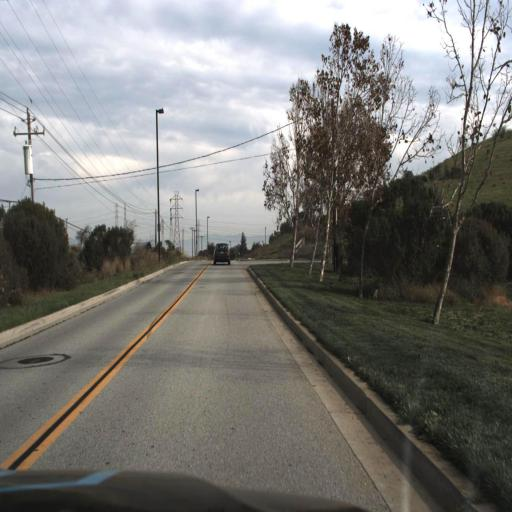car: (213, 237, 232, 271)
